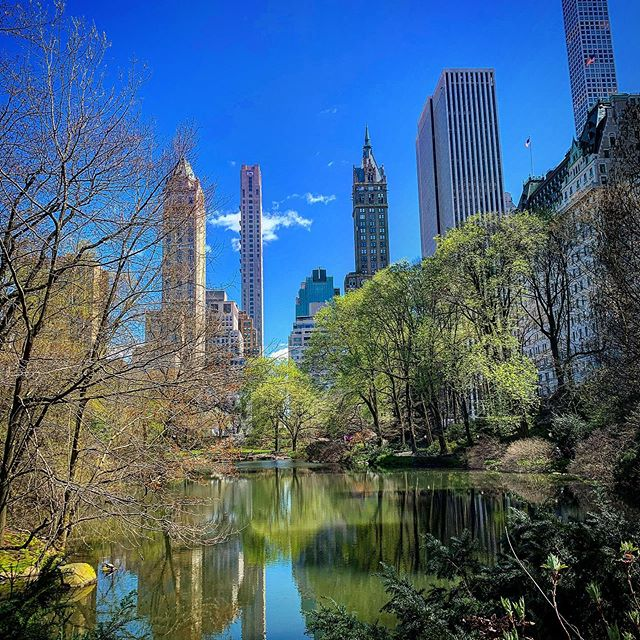building: (507, 100, 640, 386), (415, 64, 509, 272), (157, 171, 207, 361), (288, 271, 363, 389), (225, 163, 268, 361), (560, 1, 614, 154), (345, 143, 400, 283)
river: (81, 466, 640, 640)
sky: (1, 7, 583, 271)
tree: (1, 1, 137, 572), (53, 203, 194, 567), (504, 205, 640, 433), (437, 222, 555, 421), (356, 275, 463, 456), (297, 297, 392, 450), (233, 357, 332, 472)
